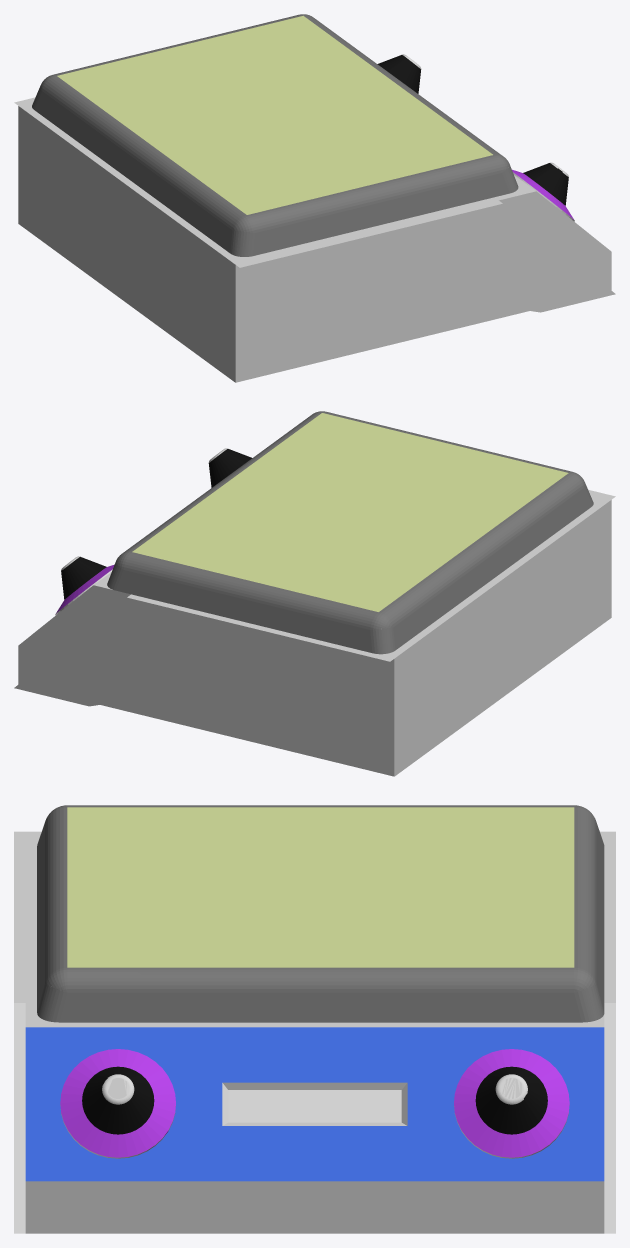
File: MagneticStirrer.fbx
The picture shows the model from 3 angles, top to bottom: view 1: azimuth 30°, elevation 25°; view 2: azimuth 150°, elevation 25°; view 3: azimuth 270°, elevation 25°; orthographic projection. The views are drawn at different scales.
Visible parts, largest first — view 1: ce23295759384925b7eed601bf0319ee; view 2: ce23295759384925b7eed601bf0319ee; view 3: ce23295759384925b7eed601bf0319ee.
Boxes of the visible parts, x1,y1,x2,y2 form: ce23295759384925b7eed601bf0319ee: (14, 14, 615, 382); ce23295759384925b7eed601bf0319ee: (14, 411, 615, 776); ce23295759384925b7eed601bf0319ee: (14, 805, 615, 1233).
Size of the model in its own units: 3125 by 3250 by 1188.
